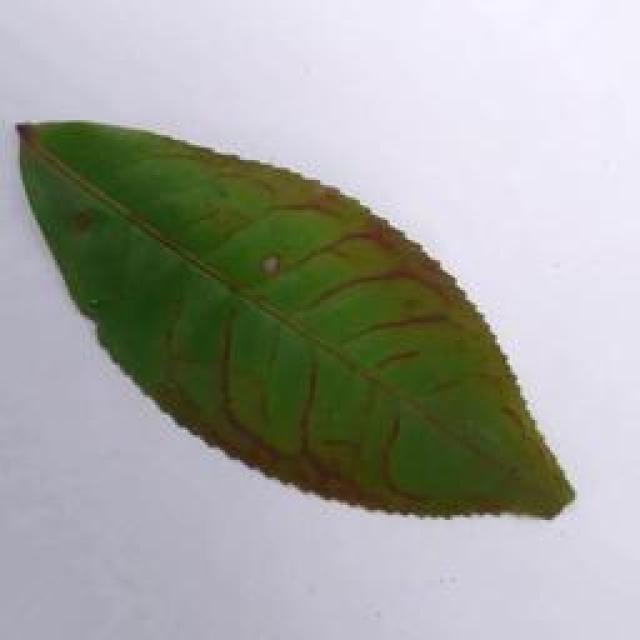Red Leaf Spot: (8, 97, 601, 537)
